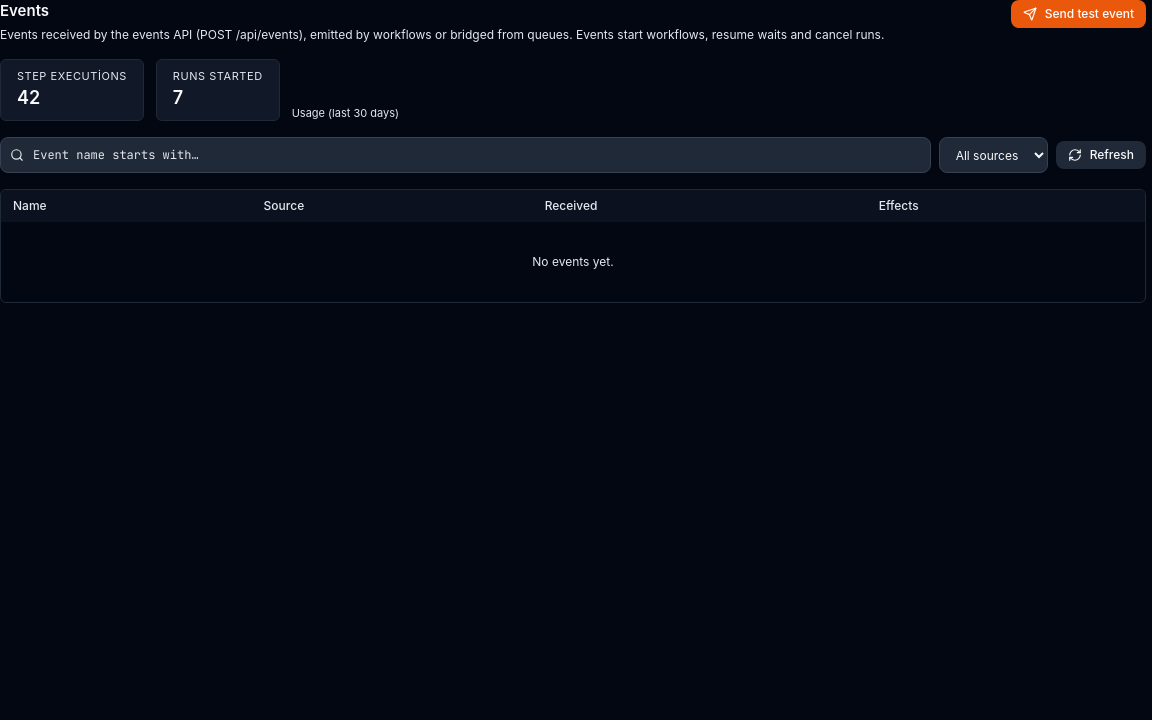
Test: EventsView › keeps the modal open with the API error
Click the button with test id "open-send-event" at (1078, 14), box [1011,0,1146,28]
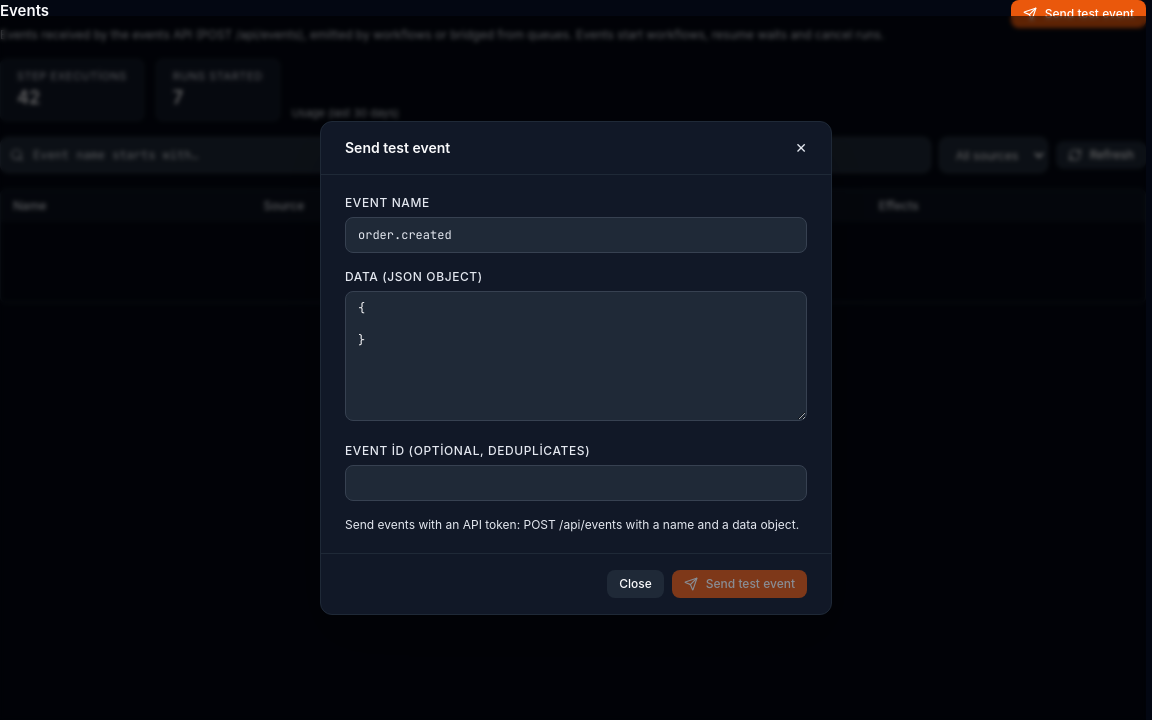
Type "runr/cron" into the field with test id "event-name" at (576, 235), box [345,217,807,253]
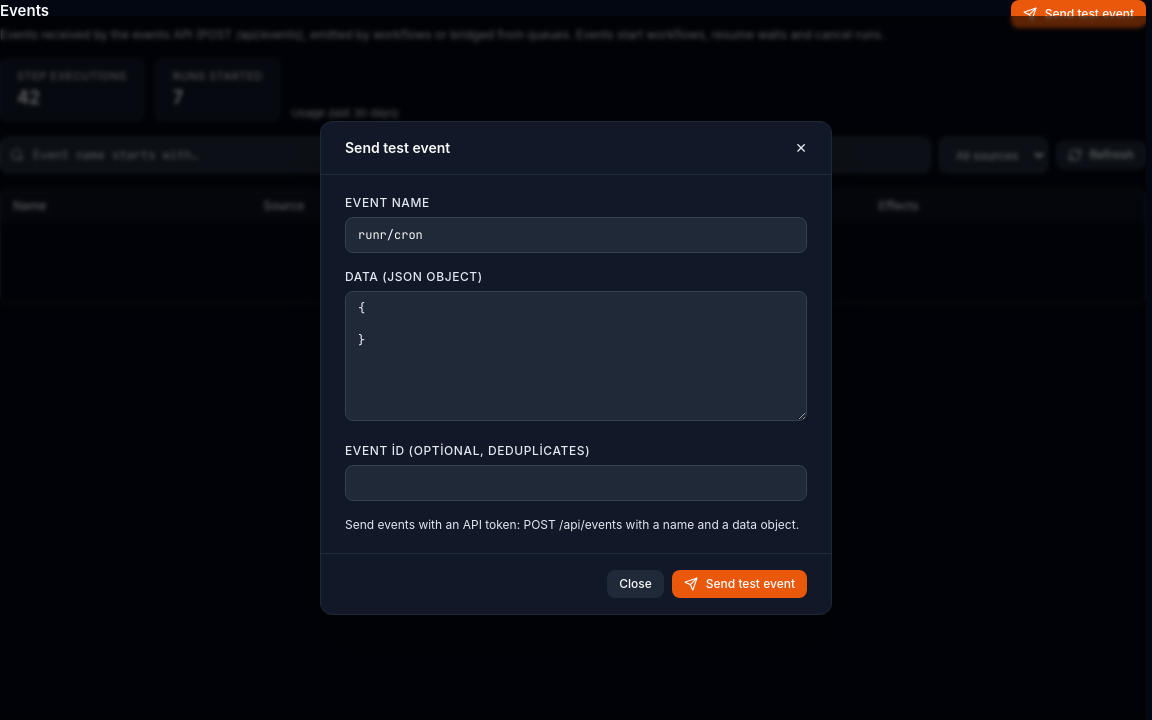
Submit the form, box [320,121,832,615]
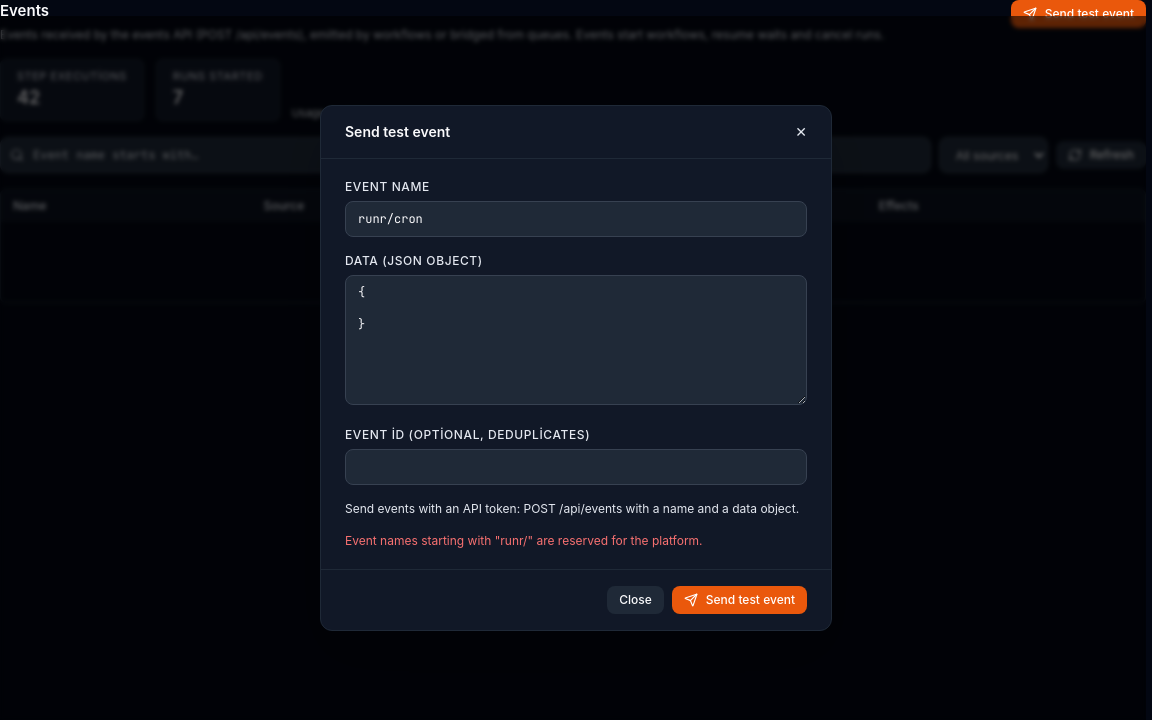
Check: the text with test id "send-error" shows "reserved", box [345,533,703,548]
